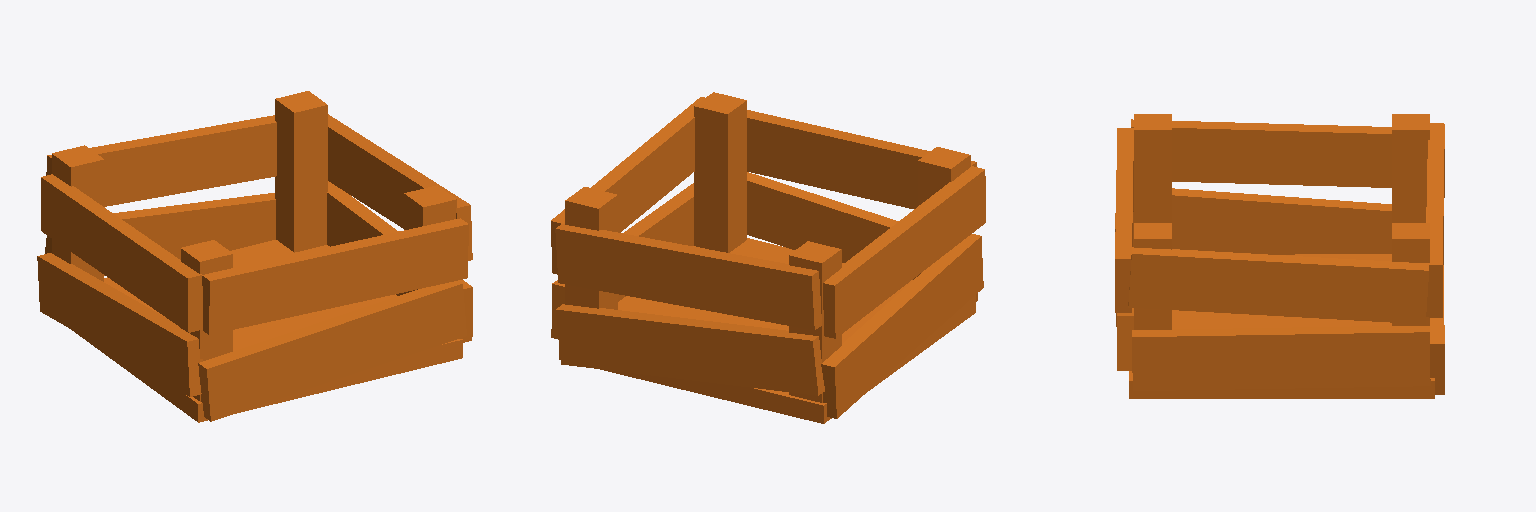
The model's file is sell_box.obj.
The picture shows the model from 3 angles: view 1: azimuth 30°, elevation 25°; view 2: azimuth 150°, elevation 25°; view 3: azimuth 270°, elevation 25°; orthographic projection.
Visible parts, largest first — view 1: Cube.006; view 2: Cube.006; view 3: Cube.006.
Boxes of the visible parts, <box> form: Cube.006: <box>37,91,472,422</box>; Cube.006: <box>551,92,985,423</box>; Cube.006: <box>1115,114,1444,398</box>.
Size of the model in its own units: 1.92 by 1.02 by 1.92.